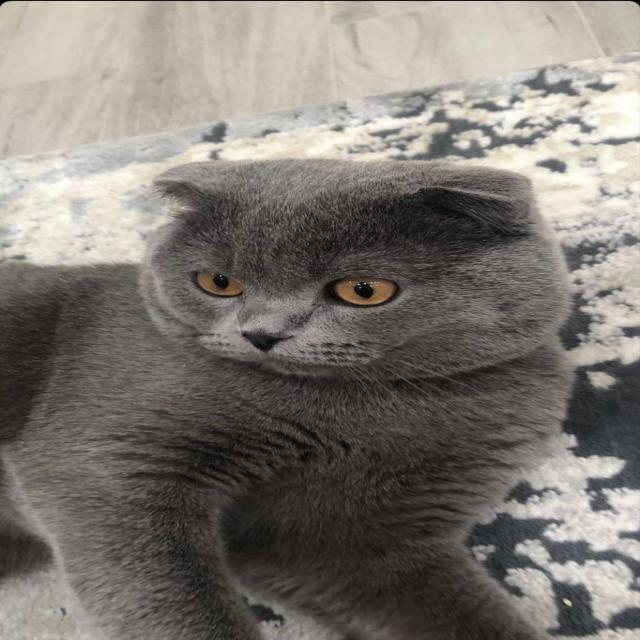british shorthair: (0, 46, 640, 560)
